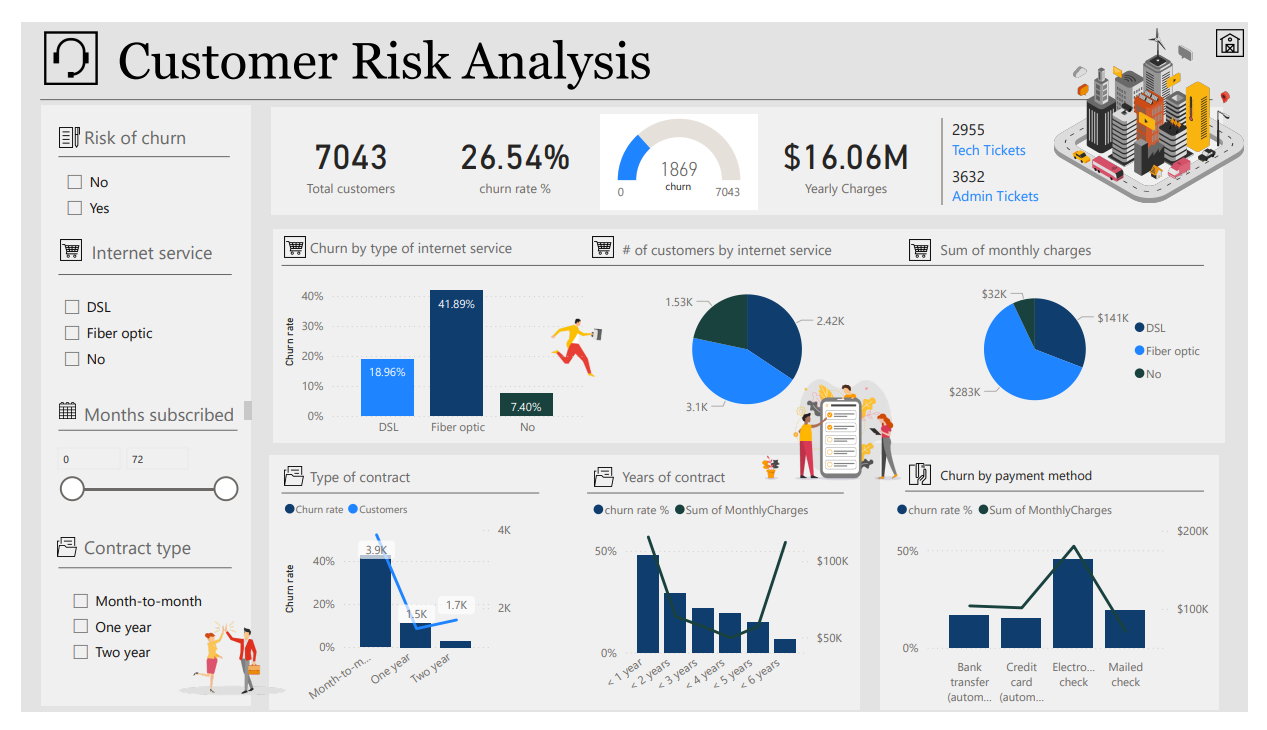

What the dashboard file says about the page in this screenshot:
{"tool":"powerbi","page":{"name":"Customer Risk Analysis","canvas":[1280,720],"ordinal":1},"visuals":[{"type":"basicShape","box":[249.8,87.8,1013.8,113.8],"z":0},{"type":"basicShape","box":[892.2,448.5,360.8,271],"z":1000},{"type":"basicShape","box":[251.8,448.5,628.9,271],"z":2000},{"type":"textbox","box":[94.5,4.8,1167.1,75.2],"z":3000},{"type":"basicShape","box":[9,61,1244.3,40.1],"z":4000},{"type":"basicShape","box":[251.8,214.2,1013.8,226.7],"z":5000},{"type":"basicShape","box":[18.3,81,222.8,638.6],"z":6000},{"type":"card","fields":{"Values":["Count(churn.customerID)"]},"box":[261.4,89,164.9,113.8],"z":7000},{"type":"gauge","fields":{"MaxValue":["CountNonNull(churn.customerID)"],"Y":["churn.Count of Churn for Yes"]},"box":[603.8,96.2,164,99.4],"z":8000},{"type":"slicer","fields":{"Values":["churn.Contract"]},"box":[40.6,584.6,178.6,97.4],"z":9000},{"type":"card","fields":{"Values":["Sum(churn.TotalCharges)"]},"box":[778.4,89,164.9,113.8],"z":10000},{"type":"slicer","fields":{"Values":["churn.Churn"]},"box":[35.2,147.5,173.2,66.3],"z":11000},{"type":"image","box":[545.4,273.4,66.3,128.6],"z":12000},{"type":"image","box":[150.5,610.6,136,105.1],"z":13000},{"type":"slicer","title":"Number of months subscribed","fields":{"Values":["churn.tenure"]},"box":[24.4,434.4,209.8,70.4],"z":14000},{"type":"image","box":[17.4,4.8,67.5,65.6],"z":15000},{"type":"textbox","box":[59.8,102.2,174.6,40.5],"z":16000},{"type":"basicShape","box":[28,120.6,198.7,39.5],"z":17000},{"type":"textbox","box":[59.5,391.1,185.4,29.8],"z":18000},{"type":"basicShape","box":[28.4,407.4,207.1,37.9],"z":19000},{"type":"basicShape","box":[28,549.8,200.6,39.5],"z":20000},{"type":"image","box":[33.8,388.4,27.1,33.8],"z":21000},{"type":"textbox","box":[59.8,529.6,159.2,40.5],"z":22000},{"type":"image","box":[31.8,105.1,34.7,30.9],"z":23000},{"type":"image","box":[31.8,524.7,29.9,45.3],"z":24000},{"type":"textbox","box":[67.7,222,171.9,51.4],"z":25000},{"type":"basicShape","box":[28.4,243.6,200.3,39.2],"z":26000},{"type":"slicer","fields":{"Values":["churn.InternetService"]},"box":[32.5,278.8,200.3,96.1],"z":27000},{"type":"card","fields":{"Values":["churn.churn rate %"]},"box":[437,89,156.3,113.8],"z":28000},{"type":"lineClusteredColumnComboChart","fields":{"Category":["churn.Contract"],"Y":["churn.churn rate %"],"Y2":["CountNonNull(churn.customerID)"]},"box":[269.1,489,246.9,230.5],"z":29000},{"type":"lineClusteredColumnComboChart","fields":{"Y":["churn.churn rate %"],"Y2":["Sum(churn.MonthlyCharges)"],"Category":["churn.Loyalty"]},"box":[591.3,489,276.8,230.5],"z":30000},{"type":"textbox","box":[296.1,220,300.9,40.5],"z":31000},{"type":"basicShape","box":[261.4,234.4,982.9,39.5],"z":32000},{"type":"clusteredColumnChart","fields":{"Category":["churn.InternetService"],"Y":["churn.churn rate %"]},"box":[269.1,242.1,322.2,198.7],"z":33000},{"type":"pieChart","fields":{"Y":["Sum(churn.MonthlyCharges)"],"Category":["churn.InternetService"]},"box":[949.1,264.3,295.2,154.3],"z":34000},{"type":"pieChart","fields":{"Category":["churn.InternetService"],"Y":["CountNonNull(churn.customerID)"]},"box":[622.2,261.4,270.1,160.1],"z":35000},{"type":"textbox","box":[954,221.9,283.6,40.5],"z":36000},{"type":"textbox","box":[622.2,221.9,285.5,40.5],"z":37000},{"type":"basicShape","box":[261.4,471.7,288.4,39.5],"z":38000},{"type":"textbox","box":[296.1,459.1,237.3,40.5],"z":39000},{"type":"textbox","box":[622.2,459.1,270.1,40.5],"z":40000},{"type":"basicShape","box":[579.7,471.7,288.4,39.5],"z":41000},{"type":"lineClusteredColumnComboChart","fields":{"Y":["churn.churn rate %"],"Y2":["Sum(churn.MonthlyCharges)"],"Category":["churn.PaymentMethod"]},"box":[907.7,489,336.6,230.5],"z":42000},{"type":"basicShape","box":[911.5,469.8,332.8,39.5],"z":43000},{"type":"textbox","box":[954.3,459.1,270.1,40.5],"z":44000},{"type":"multiRowCard","fields":{"Values":["Sum(churn.numTechTickets)","Sum(churn.numAdminTickets)"]},"box":[954,96.2,207.4,99.4],"z":45000},{"type":"image","box":[922.1,452.4,31.8,39.5],"z":46000},{"type":"image","box":[593.2,452.4,29.9,45.3],"z":47000},{"type":"image","box":[269.1,451.4,29.9,45.3],"z":48000},{"type":"image","box":[34.7,219.9,31.8,34.7],"z":49000},{"type":"image","box":[269.1,217,31.8,34.7],"z":50000},{"type":"image","box":[591.3,217,31.8,34.7],"z":51000},{"type":"image","box":[922.1,219.9,31.8,34.7],"z":52000},{"type":"textbox","box":[666.5,156.3,57.9,28.9],"z":53000},{"type":"image","box":[1072.6,0,207.4,193.9],"z":54000},{"type":"image","box":[1242,0,38,42.9],"z":55000},{"type":"image","box":[759.2,361.3,190.8,129.9],"z":56000}]}

Visuals, with their boxes in screenshot pixels (x1, y1, x2, y2), scaled from the page's 1280x720 canvas onto the 1267x730 screenshot:
basicShape: 247/89/1251/204
basicShape: 883/455/1240/729
basicShape: 249/455/872/729
textbox: 94/5/1249/81
basicShape: 9/62/1241/103
basicShape: 249/217/1253/447
basicShape: 18/82/239/729
card - Count(churn.customerID): 259/90/422/206
gauge - CountNonNull(churn.customerID) x churn.Count of Churn for Yes: 598/98/760/198
slicer - churn.Contract: 40/593/217/691
card - Sum(churn.TotalCharges): 770/90/934/206
slicer - churn.Churn: 35/150/206/217
image: 540/277/605/408
image: 149/619/284/726
"Number of months subscribed" slicer: 24/440/232/512
image: 17/5/84/71
textbox: 59/104/232/145
basicShape: 28/122/224/162
textbox: 59/397/242/427
basicShape: 28/413/233/451
basicShape: 28/557/226/597
image: 33/394/60/428
textbox: 59/537/217/578
image: 31/107/66/138
image: 31/532/61/578
textbox: 67/225/237/277
basicShape: 28/247/226/287
slicer - churn.InternetService: 32/283/230/380
card - churn.churn rate %: 433/90/587/206
lineClusteredColumnComboChart - churn.Contract x churn.churn rate %: 266/496/511/729
lineClusteredColumnComboChart - churn.churn rate % x Sum(churn.MonthlyCharges): 585/496/859/729
textbox: 293/223/591/264
basicShape: 259/238/1232/278
clusteredColumnChart - churn.InternetService x churn.churn rate %: 266/245/585/447
pieChart - Sum(churn.MonthlyCharges) x churn.InternetService: 939/268/1232/424
pieChart - churn.InternetService x CountNonNull(churn.customerID): 616/265/883/427
textbox: 944/225/1225/266
textbox: 616/225/898/266
basicShape: 259/478/544/518
textbox: 293/465/528/507
textbox: 616/465/883/507
basicShape: 574/478/859/518
lineClusteredColumnComboChart - churn.churn rate % x Sum(churn.MonthlyCharges): 898/496/1232/729
basicShape: 902/476/1232/516
textbox: 945/465/1212/507
multiRowCard - Sum(churn.numTechTickets) x Sum(churn.numAdminTickets): 944/98/1150/198
image: 913/459/944/499
image: 587/459/617/505
image: 266/458/296/504
image: 34/223/66/258
image: 266/220/298/255
image: 585/220/617/255
image: 913/223/944/258
textbox: 660/158/717/188
image: 1062/0/1266/197
image: 1229/0/1266/43
image: 751/366/940/498
